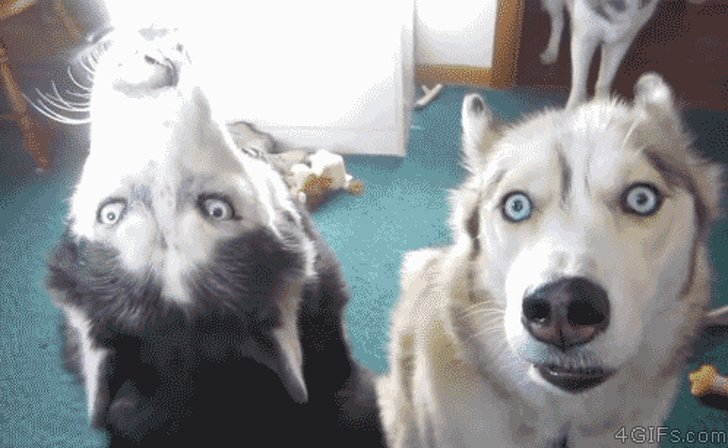husky: (437, 50, 708, 408)
